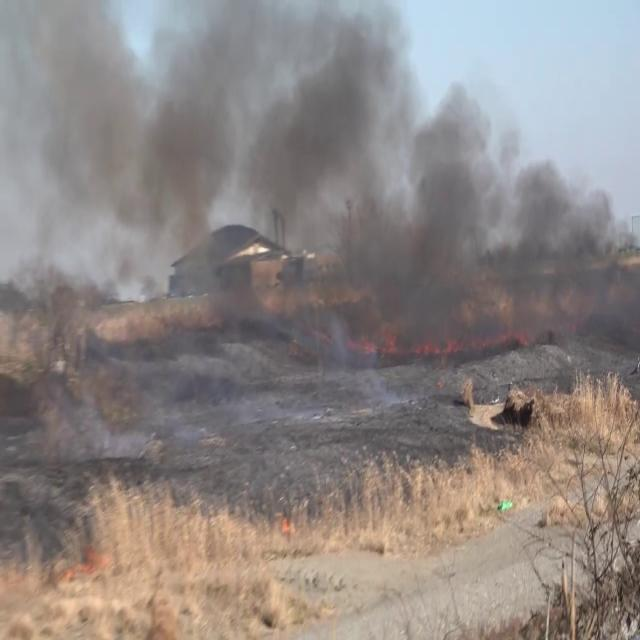Smoke: (2, 1, 634, 398)
